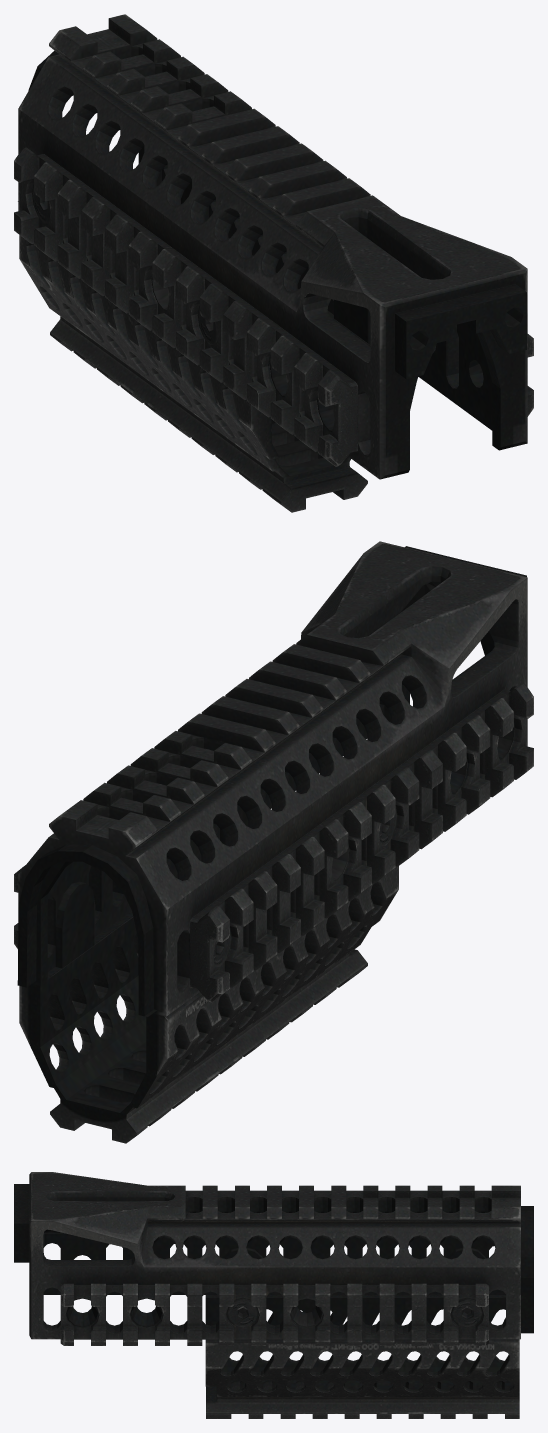
3 views of the same model, one above another, from view 1: azimuth 30°, elevation 25°; view 2: azimuth 150°, elevation 25°; view 3: azimuth 270°, elevation 25° (orthographic). The views are drawn at different scales.
Visible parts, largest first — view 1: TW_5648b4534bdc2d3d1c8b4580_PZ_Import; view 2: TW_5648b4534bdc2d3d1c8b4580_PZ_Import; view 3: TW_5648b4534bdc2d3d1c8b4580_PZ_Import.
Boxes of the visible parts, x1,y1,x2,y2 form: TW_5648b4534bdc2d3d1c8b4580_PZ_Import: (14,14,533,512); TW_5648b4534bdc2d3d1c8b4580_PZ_Import: (14,541,533,1143); TW_5648b4534bdc2d3d1c8b4580_PZ_Import: (14,1172,533,1418).
Bounding box in the file's own units: 0.0294 × 0.0937 × 0.0421.
Materials: 1 (1 with a texture image).
